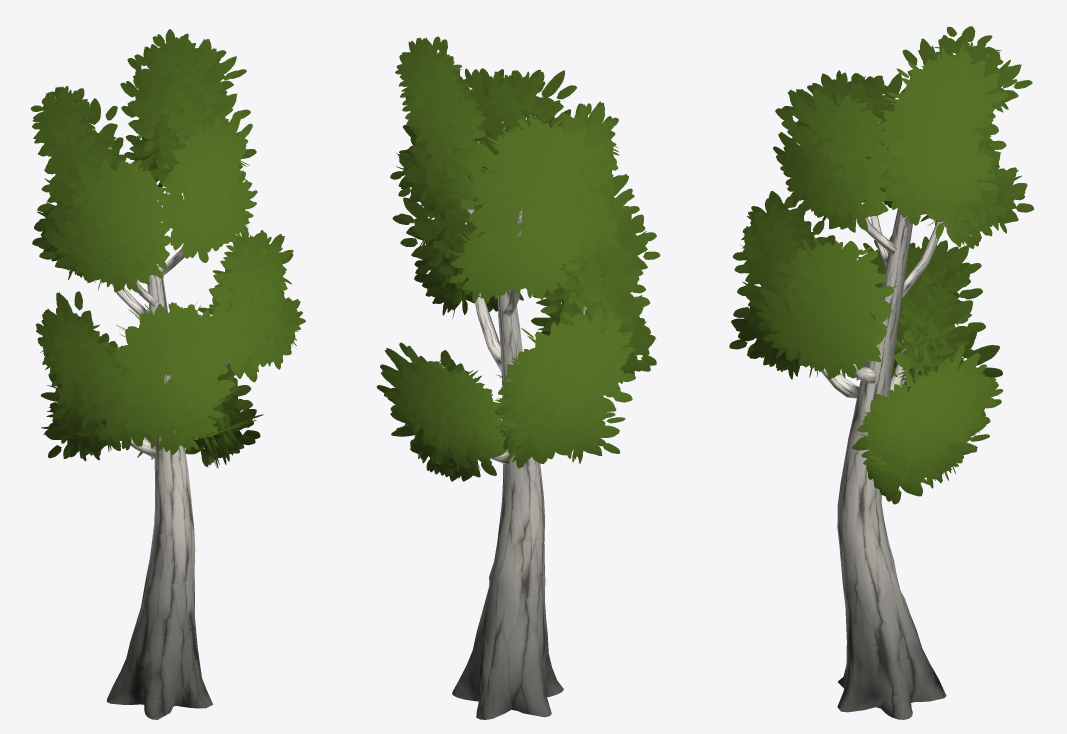
Rendered from arv_betula.glb.
3 renders of one model, left to right at view 1: azimuth 30°, elevation 25°; view 2: azimuth 150°, elevation 25°; view 3: azimuth 270°, elevation 25°, orthographic. The views are drawn at different scales.
Visible parts, largest first — view 1: CommonTree_3; view 2: CommonTree_3; view 3: CommonTree_3.
Boxes of the visible parts, bbox=[...] form: CommonTree_3: bbox=[30, 29, 305, 719]; CommonTree_3: bbox=[376, 36, 660, 719]; CommonTree_3: bbox=[729, 26, 1033, 719].
Bounding box in the file's own units: 4.06 × 9.43 × 4.24.
Materials: 2 (2 with a texture image).
